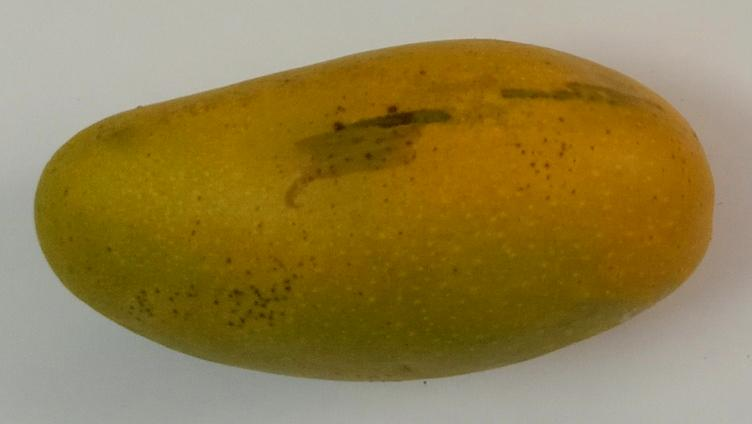Mango Ripe: (41, 23, 742, 411)
